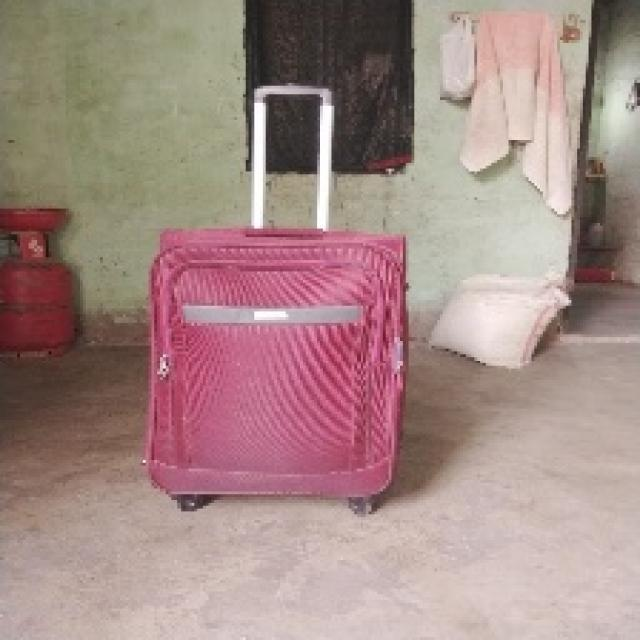Suitcase: (144, 67, 414, 519)
